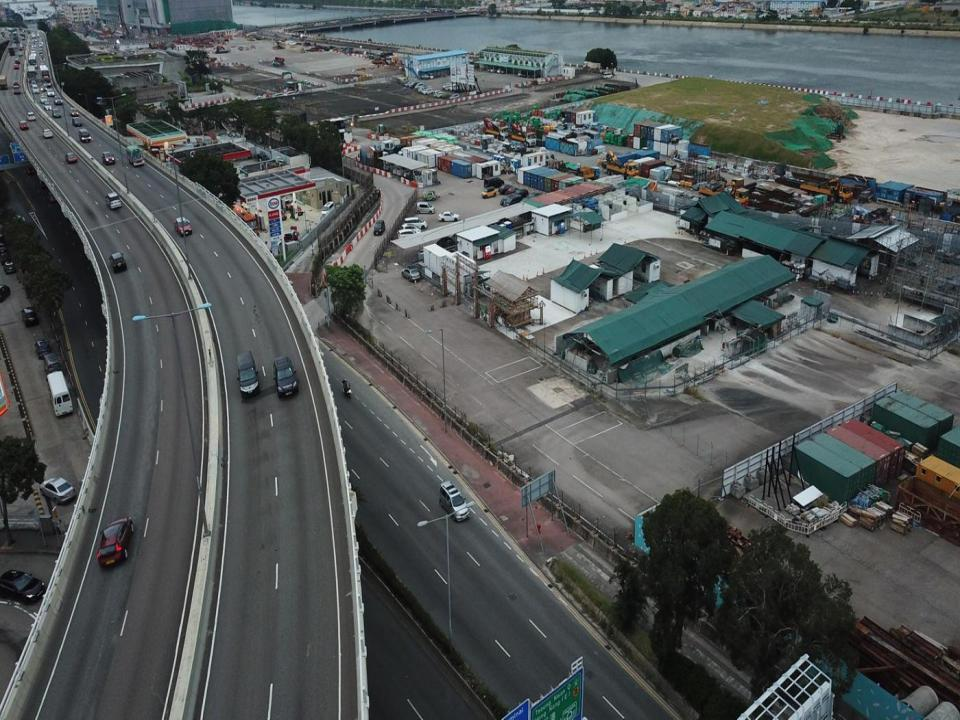car: (96, 516, 134, 568), (1, 569, 44, 604), (272, 356, 299, 398), (40, 477, 76, 503), (396, 227, 420, 245), (21, 306, 40, 328), (400, 224, 424, 241), (43, 351, 61, 373), (108, 252, 127, 272), (174, 216, 193, 236), (502, 194, 522, 211), (524, 192, 544, 208), (484, 176, 504, 192), (34, 338, 51, 356), (400, 267, 421, 280), (105, 191, 121, 208), (499, 183, 516, 197), (499, 193, 515, 207), (405, 218, 427, 228), (438, 211, 460, 221), (373, 219, 385, 236), (417, 202, 435, 213), (321, 200, 334, 215), (482, 185, 496, 198), (0, 284, 10, 302), (515, 187, 527, 202), (508, 185, 520, 199), (4, 261, 15, 275), (65, 152, 77, 162), (69, 106, 79, 118), (42, 128, 53, 138), (19, 120, 30, 130), (73, 117, 82, 128), (424, 191, 435, 200), (53, 94, 62, 104), (26, 112, 35, 121), (44, 102, 52, 112), (53, 107, 60, 118), (47, 88, 54, 96), (13, 85, 20, 93), (40, 96, 47, 103), (13, 80, 19, 88)
truck: (0, 75, 8, 90)
van: (47, 370, 74, 416), (439, 480, 470, 520), (235, 351, 259, 397), (126, 144, 146, 166), (101, 151, 114, 165), (78, 129, 91, 142)
